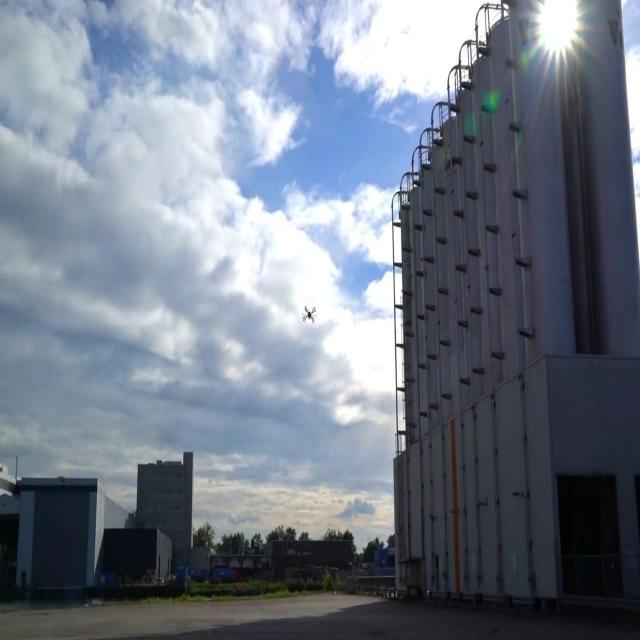UAV: (302, 306, 316, 324)
